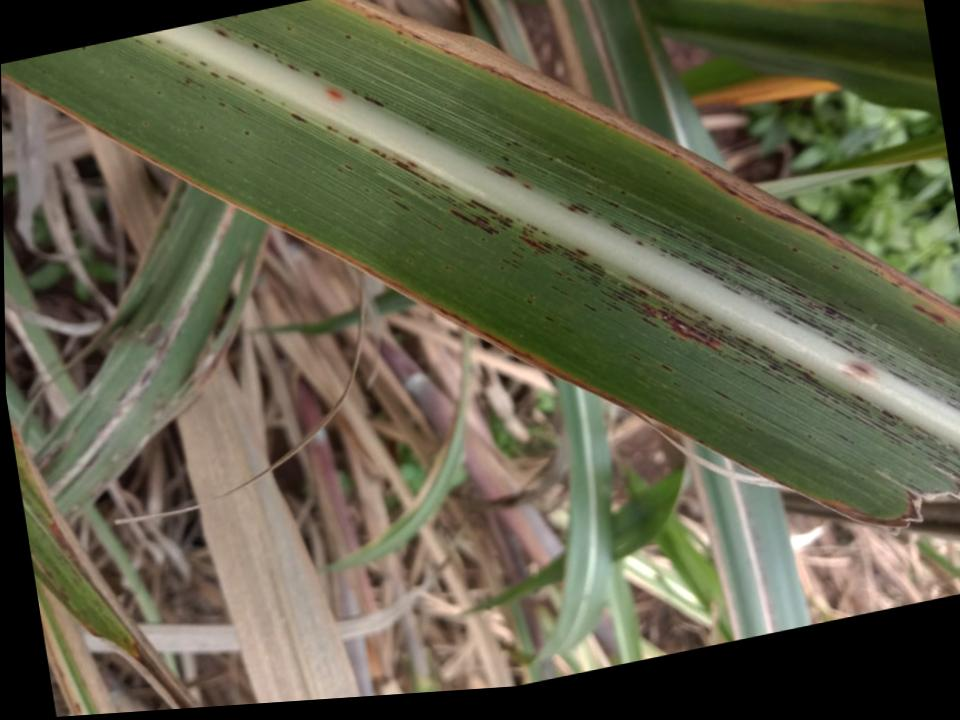RedRot: (845, 361, 876, 379), (326, 88, 345, 100)
Rust: (1, 74, 881, 525), (327, 0, 960, 325), (596, 274, 960, 479), (632, 211, 960, 410), (516, 221, 607, 290), (420, 192, 516, 237), (368, 146, 453, 191), (250, 41, 304, 75), (737, 369, 781, 396), (909, 300, 951, 327), (501, 236, 530, 271), (558, 201, 606, 221), (563, 153, 598, 173), (415, 211, 446, 232), (175, 74, 208, 90), (483, 164, 517, 179), (553, 269, 577, 288), (842, 299, 867, 316), (545, 282, 571, 298), (596, 194, 623, 209), (608, 221, 633, 236), (362, 94, 387, 109), (392, 198, 413, 214), (225, 73, 249, 87), (834, 430, 856, 445), (288, 111, 310, 125), (177, 59, 199, 73), (712, 387, 732, 401), (212, 27, 232, 41), (230, 102, 250, 116), (386, 187, 405, 200), (524, 292, 539, 308), (335, 163, 355, 174), (324, 124, 342, 136), (506, 138, 526, 148), (626, 351, 643, 362), (345, 135, 362, 146), (661, 165, 674, 178), (583, 302, 598, 313), (208, 69, 223, 80), (423, 123, 438, 134), (442, 263, 456, 274), (659, 363, 674, 373), (311, 68, 323, 80), (217, 96, 227, 109), (252, 88, 268, 96), (496, 263, 507, 274), (543, 314, 555, 324), (521, 181, 533, 191), (197, 59, 210, 68), (348, 88, 361, 97), (342, 32, 353, 42), (830, 263, 842, 272), (633, 239, 646, 247), (546, 154, 556, 164), (499, 154, 510, 163), (733, 215, 744, 224), (583, 189, 595, 197), (619, 188, 629, 197), (154, 88, 164, 97), (241, 129, 252, 137), (197, 123, 206, 132), (790, 246, 800, 254), (126, 72, 136, 80), (154, 38, 162, 46), (285, 25, 293, 32)
